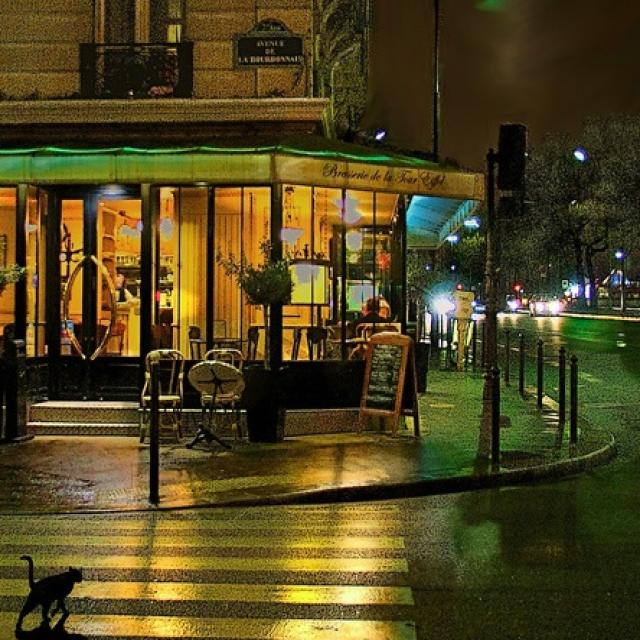Cat: (0, 545, 92, 640)
chair: (191, 333, 261, 476), (130, 334, 192, 460)
